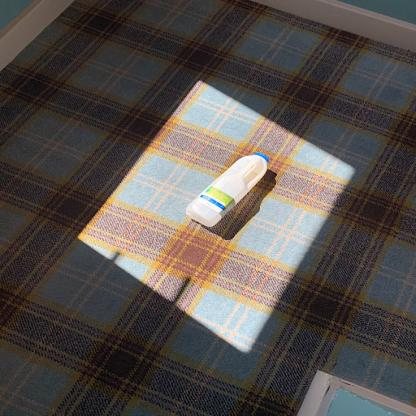trash: (186, 151, 271, 228)
